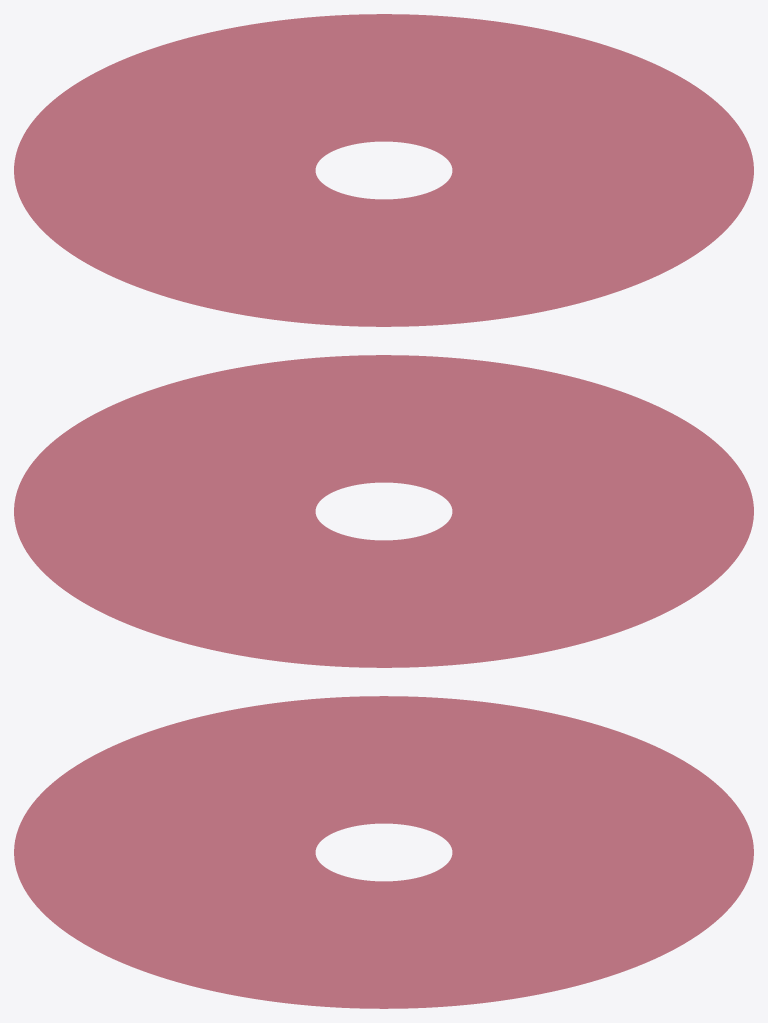
File: ENV_Dimsum_Table.fbx
The picture shows the model from 3 angles, top to bottom: view 1: azimuth 30°, elevation 25°; view 2: azimuth 150°, elevation 25°; view 3: azimuth 270°, elevation 25°; orthographic projection.
Parts seen in each view (by area): view 1: table; view 2: table; view 3: table.
Boxes of the visible parts, x1,y1,x2,y2 form: table: (14,14,753,326); table: (14,355,753,667); table: (14,696,753,1008).
Bounding box in the file's own units: 280 × 1.22e-05 × 280.
